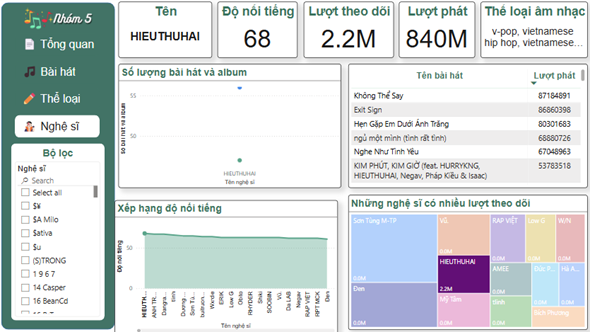

The page's visual inventory and layout, read from the dashboard file:
{"tool":"powerbi","page":{"name":"🧑🏻🎤  Nghệ sĩ","canvas":[1280,720],"ordinal":3},"visuals":[{"type":"shape","title":"Menu Background","box":[17.3,11.3,242.7,697.3],"z":0},{"type":"shape","title":"Bộ lọc","box":[38,312,200,378],"z":1000},{"type":"shape","box":[76,314,125.3,38.7],"z":2000},{"type":"card","title":"Tên ","fields":{"Values":["Min(vietnamese_artists.name)"]},"box":[268.6,10,200,119.3],"z":3000},{"type":"card","title":"Thể loại âm nhạc","fields":{"Values":["Min(vietnamese_artists.genres)"]},"box":[1041.4,10,229.3,119.3],"z":4000},{"type":"slicer","title":"Nghệ sĩ","fields":{"Values":["artists.Value"]},"box":[46.4,350,182.1,330.7],"z":5000},{"type":"stackedAreaChart","title":"Xếp hạng độ nổi tiếng","fields":{"Category":["vietnamese_artists.name"],"Y":["Avg(vietnamese_artists.popularity)"]},"box":[268.6,420.7,475.7,287.9],"z":6000},{"type":"treemap","title":"Những nghệ sĩ có nhiều lượt theo dõi","fields":{"Group":["vietnamese_artists.name"],"Values":["Sum(vietnamese_artists.followers)"]},"box":[759.3,420.7,511.4,287.9],"z":7000},{"type":"card","title":"Độ nổi tiếng","fields":{"Values":["Avg(vietnamese_artists.popularity)"]},"box":[480,10,171.4,119.3],"z":8000},{"type":"card","title":"Lượt theo dõi","fields":{"Values":["Sum(vietnamese_artists.followers)"]},"box":[662.9,10,192.9,119.3],"z":9000},{"type":"card","title":"Lượt phát","fields":{"Values":["Sum(vietnamese_only_songs_clean.stream_counts)"]},"box":[866.4,10,162.9,119.3],"z":10000},{"type":"areaChart","title":"Số lượng bài hát và album","fields":{"Category":["vietnamese_artists.name"],"Y":["Count(vietnamese_only_songs_clean.album)","Count(vietnamese_only_songs_clean.name)"]},"box":[268.6,142.1,475.7,264.3],"z":11000},{"type":"pageNavigator","title":"Menu Buttons","box":[48,77.3,181.3,224],"z":12000},{"type":"image","box":[53.6,15,167.9,62.1],"z":13000},{"type":"tableEx","title":"Lượt phát của các bài hát","fields":{"Values":["vietnamese_only_songs_clean.name","Sum(vietnamese_only_songs_clean.stream_counts)"]},"box":[759.3,142.1,511.4,264.3],"z":14000}]}

Visuals, with their boxes in screenshot pixels (x1, y1, x2, y2), scaled from the page's 1280x720 canvas onto the 590x332 screenshot:
"Menu Background" shape: box=[8, 5, 120, 327]
"Bộ lọc" shape: box=[18, 144, 110, 318]
shape: box=[35, 145, 93, 163]
"Tên " card: box=[124, 5, 216, 60]
"Thể loại âm nhạc" card: box=[480, 5, 586, 60]
"Nghệ sĩ" slicer: box=[21, 161, 105, 314]
"Xếp hạng độ nổi tiếng" stackedAreaChart: box=[124, 194, 343, 327]
"Những nghệ sĩ có nhiều lượt theo dõi" treemap: box=[350, 194, 586, 327]
"Độ nổi tiếng" card: box=[221, 5, 300, 60]
"Lượt theo dõi" card: box=[306, 5, 394, 60]
"Lượt phát" card: box=[399, 5, 474, 60]
"Số lượng bài hát và album" areaChart: box=[124, 66, 343, 187]
"Menu Buttons" pageNavigator: box=[22, 36, 106, 139]
image: box=[25, 7, 102, 36]
"Lượt phát của các bài hát" tableEx: box=[350, 66, 586, 187]
